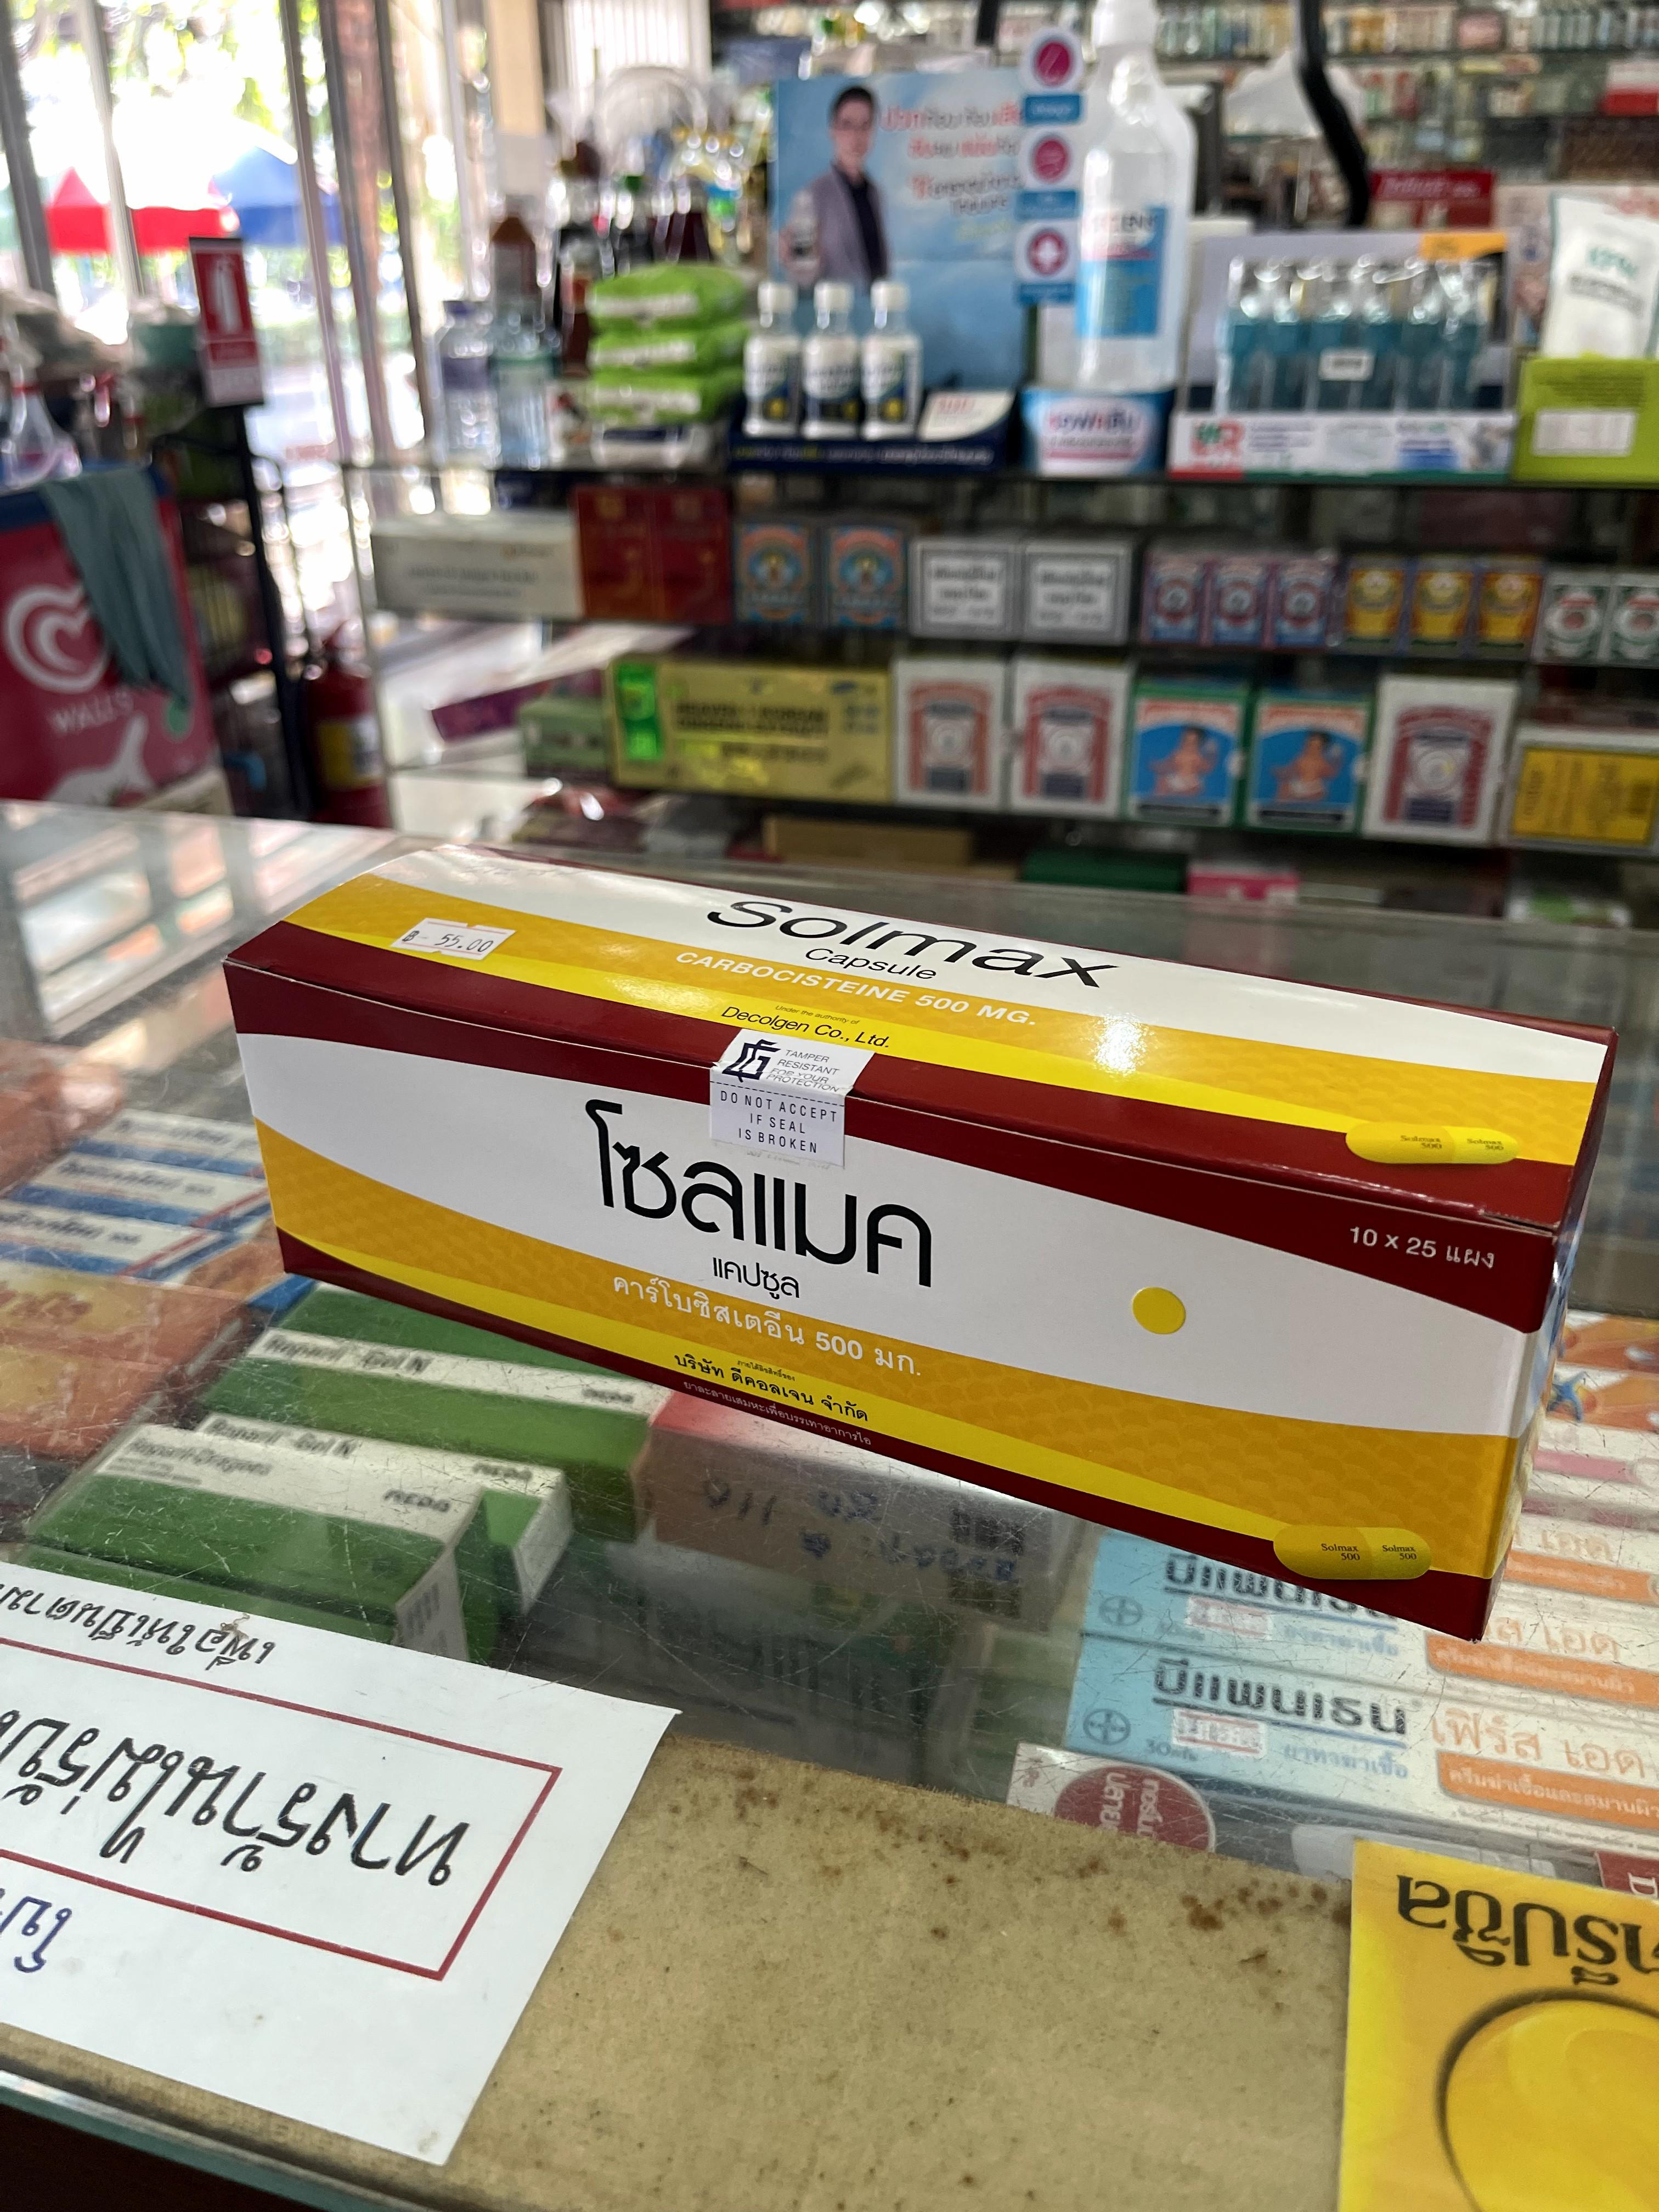Solmax-Capsule: (218, 838, 1621, 1648)
